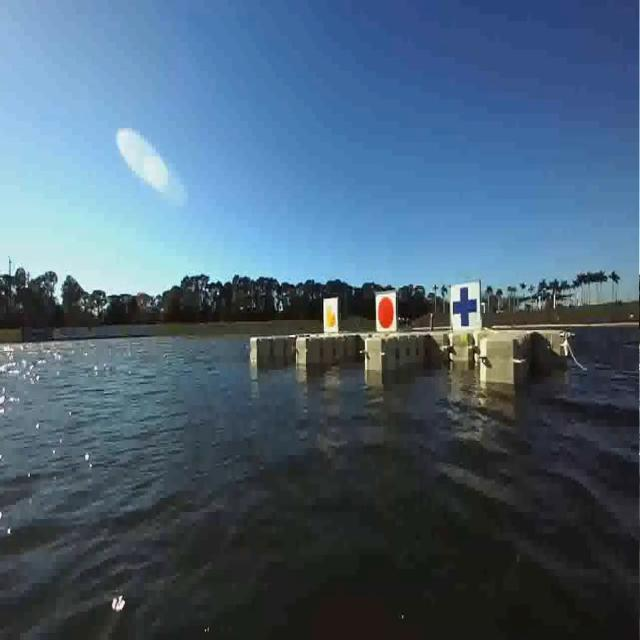blue-cross: (449, 281, 480, 328)
red-dot: (376, 290, 399, 338)
yellow-duck: (324, 300, 338, 332)
